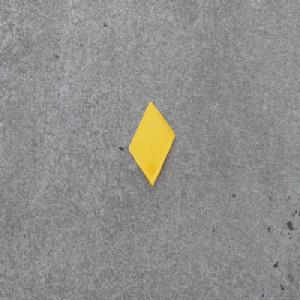PlasticPart: (128, 100, 176, 188)
